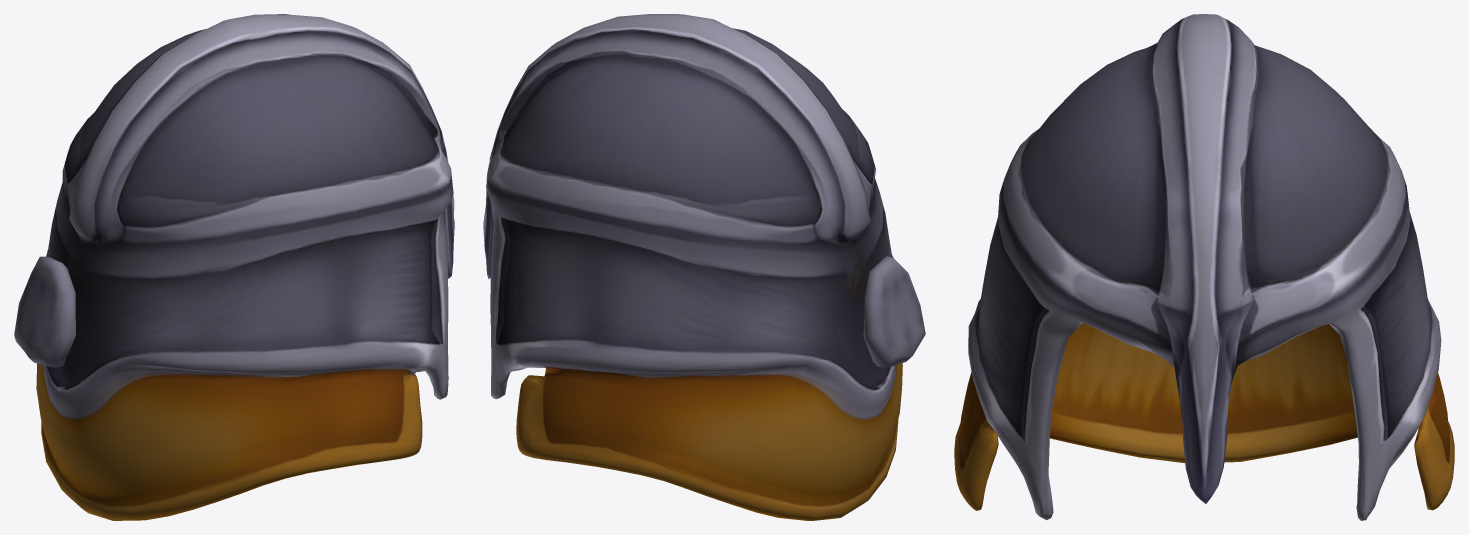
The model's file is Helmet_Iron.fbx.
3 renders of one model, left to right at view 1: azimuth 30°, elevation 25°; view 2: azimuth 150°, elevation 25°; view 3: azimuth 270°, elevation 25°, orthographic. The views are drawn at different scales.
Visible parts, largest first — view 1: tripo_node_c5b7a0cc; view 2: tripo_node_c5b7a0cc; view 3: tripo_node_c5b7a0cc.
Boxes of the visible parts, bbox=[...] form: tripo_node_c5b7a0cc: bbox=[14, 14, 454, 520]; tripo_node_c5b7a0cc: bbox=[483, 14, 925, 520]; tripo_node_c5b7a0cc: bbox=[954, 14, 1454, 520].
Size of the model in its own units: 0.9923 by 0.9969 by 0.8714.
1 material, 1 textured.
